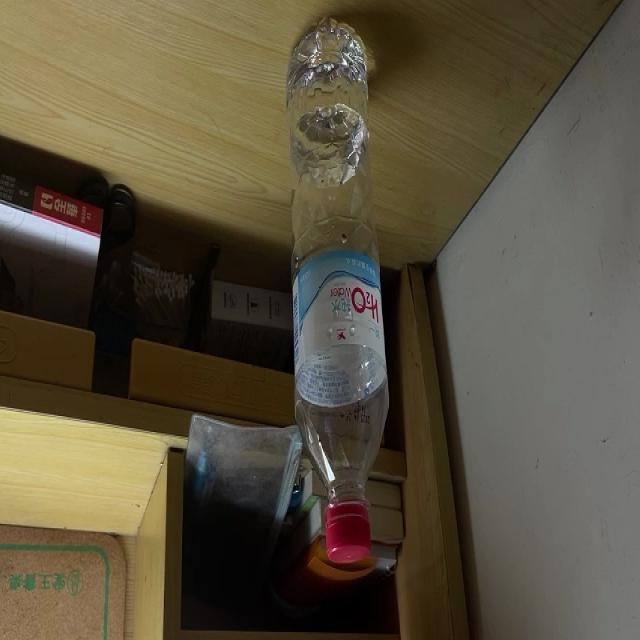Water: (286, 23, 389, 564)
